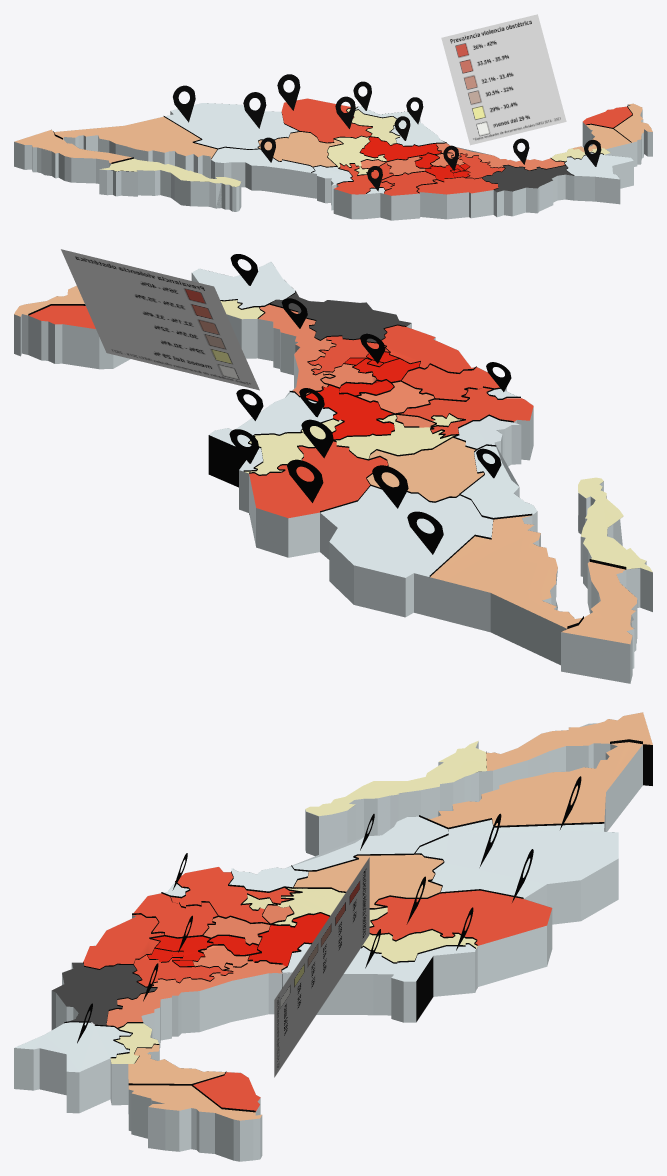
Rendered from Mapacolor.glb.
3 views of the same model, one above another, from view 1: azimuth 30°, elevation 25°; view 2: azimuth 150°, elevation 25°; view 3: azimuth 270°, elevation 25° (orthographic). The views are drawn at different scales.
Visible parts, largest first — view 1: Plane, Plane.001, Circle.001, Circle.010, Circle.004, Circle.012, Circle.007; view 2: Plane, Plane.001, Circle.010, Circle.001, Circle.004; view 3: Plane, Plane.001.
Part boxes in pixels (<box>): Plane: <box>14,98,652,220</box>; Plane.001: <box>441,14,566,145</box>; Circle.001: <box>243,92,266,128</box>; Circle.010: <box>173,85,195,122</box>; Circle.004: <box>277,74,300,110</box>; Circle.012: <box>335,96,355,128</box>; Circle.007: <box>353,81,371,110</box>; Plane: <box>14,261,652,683</box>; Plane.001: <box>61,249,259,390</box>; Circle.010: <box>407,511,443,554</box>; Circle.001: <box>372,465,408,508</box>; Circle.004: <box>287,459,323,502</box>; Plane: <box>14,712,652,1161</box>; Plane.001: <box>274,857,369,1077</box>.
Bounding box in the file's own units: 12.16 × 2.46 × 8.04.
Materials: 10 (1 with a texture image).
